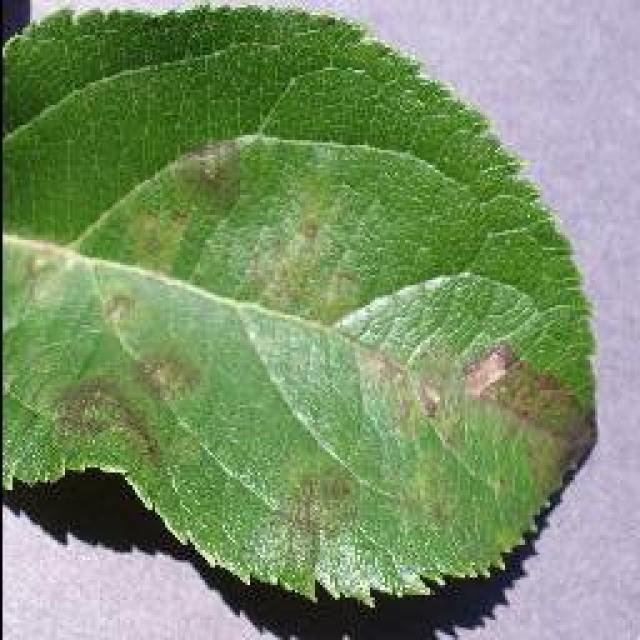apple scab disease: (0, 0, 600, 612)
